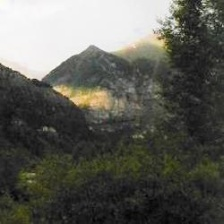neutral: (1, 5, 222, 224)
